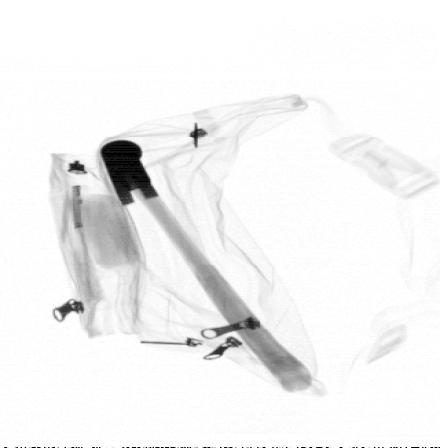Hammer: (100, 139, 312, 393)
